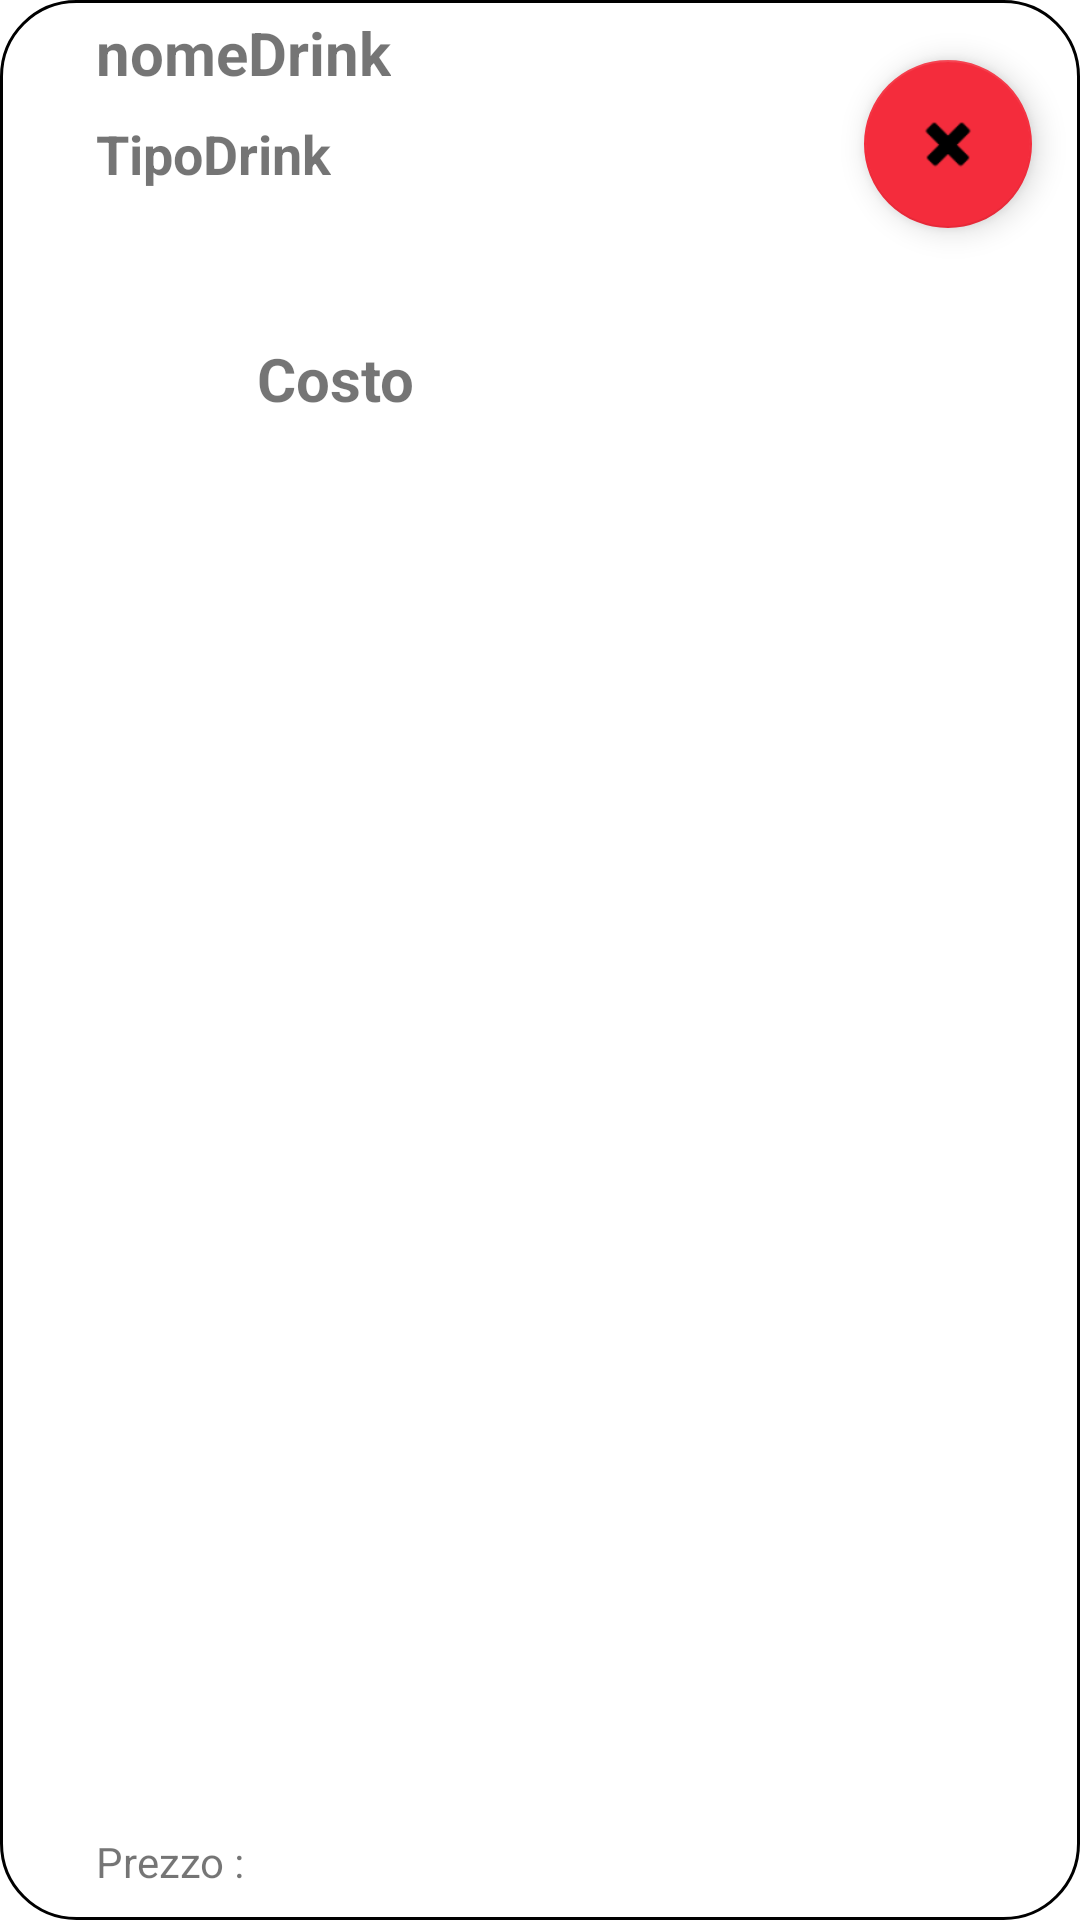

Icons on this 1080x1920 Android screen, each with its box as [left=x1, top=y1, right=x2, bottom=y2]:
delete: [left=864, top=60, right=1032, bottom=228]
